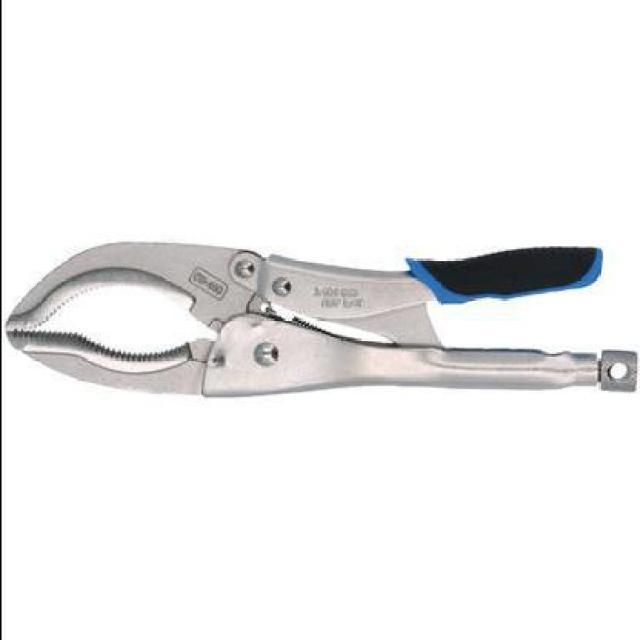pliers: (1, 197, 638, 417)
